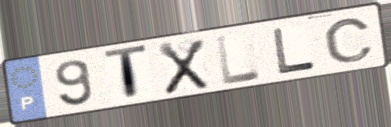9: (52, 59, 95, 108)
C: (321, 17, 377, 65)
L: (214, 32, 265, 87), (269, 26, 318, 76)
T: (101, 42, 150, 103)
X: (156, 37, 211, 97)
